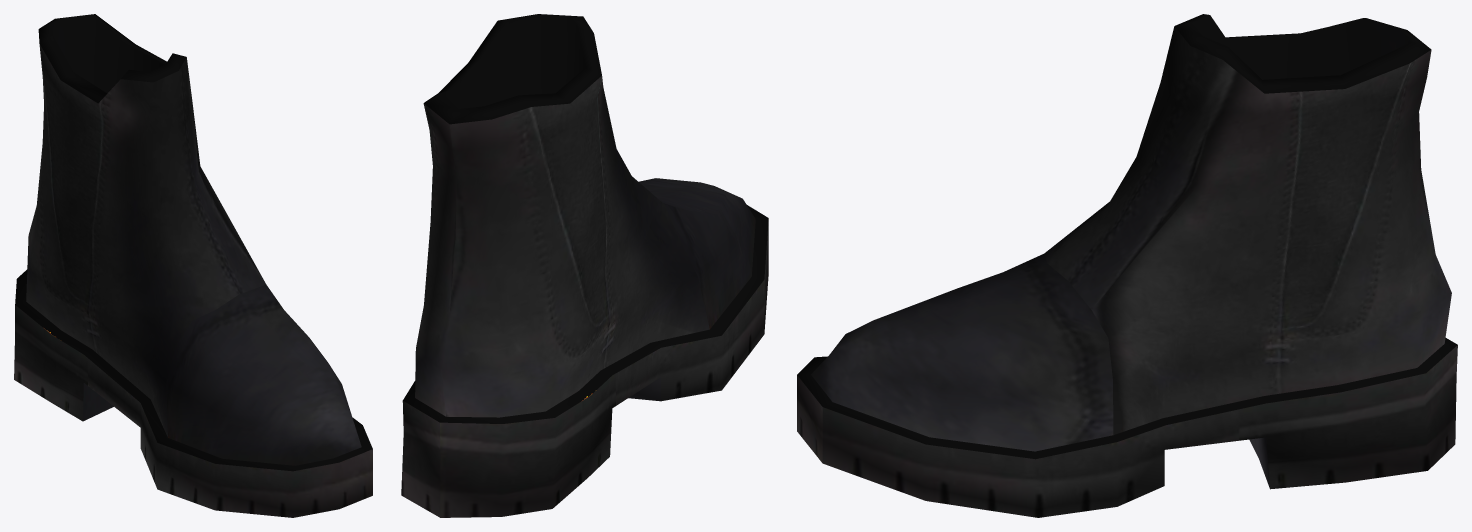
The model's file is boot.glb.
3 renders of one model, left to right at view 1: azimuth 30°, elevation 25°; view 2: azimuth 150°, elevation 25°; view 3: azimuth 270°, elevation 25°, orthographic. The views are drawn at different scales.
Parts seen in each view (by area): view 1: Boot; view 2: Boot; view 3: Boot.
Part boxes in pixels (<box>): Boot: <box>14,14,372,517</box>; Boot: <box>401,14,768,517</box>; Boot: <box>797,14,1457,517</box>.
Bounding box in the file's own units: 1.91 × 3.66 × 5.12.
Materials: 1 (1 with a texture image).
